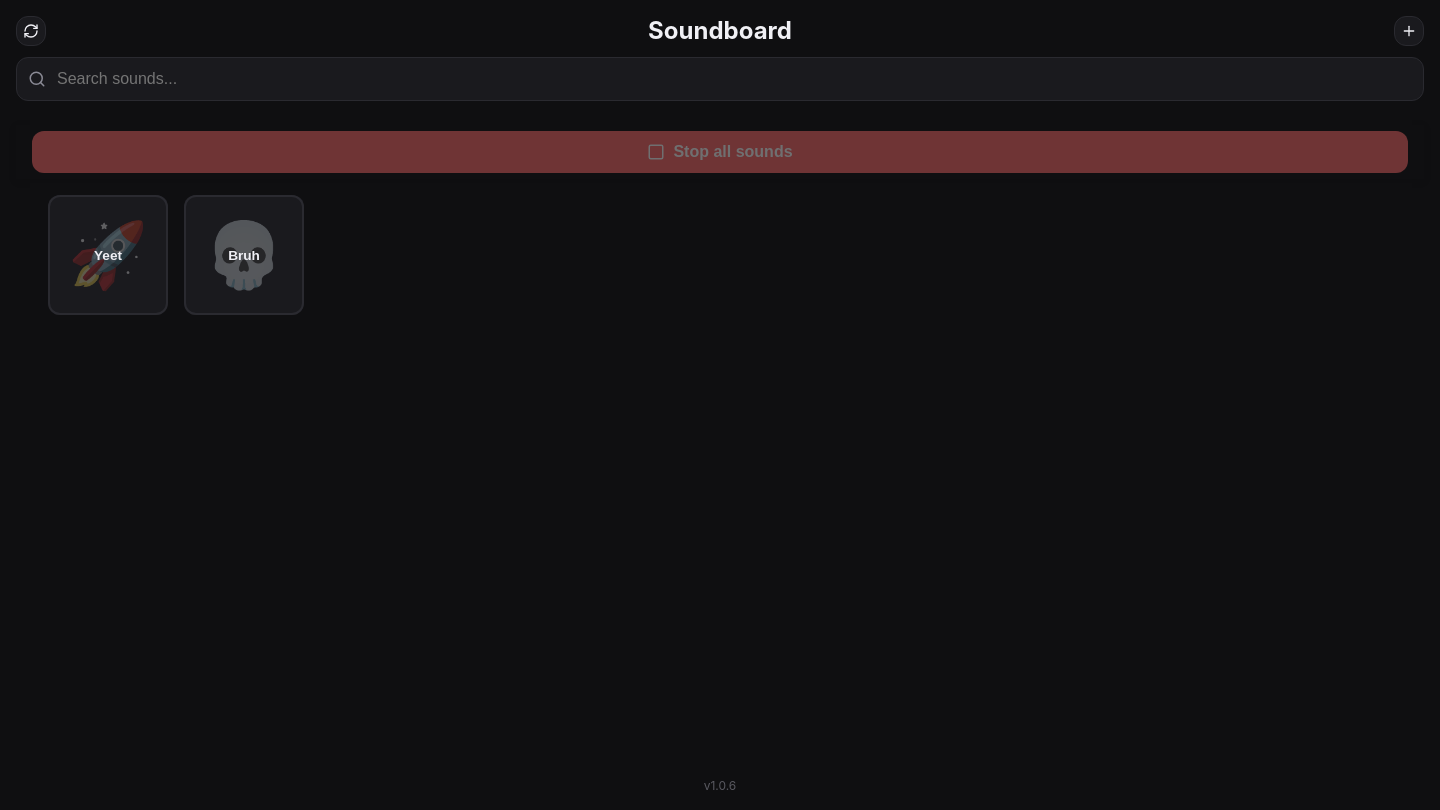
Scenario: App › filters samples by search query
Expected: the text "Yeet" is shown, x1=94 y1=248 x2=122 y2=262
Type "yeet" into the field with placeholder "Search sounds..." at (720, 79), box x1=16 y1=57 x2=1424 y2=101
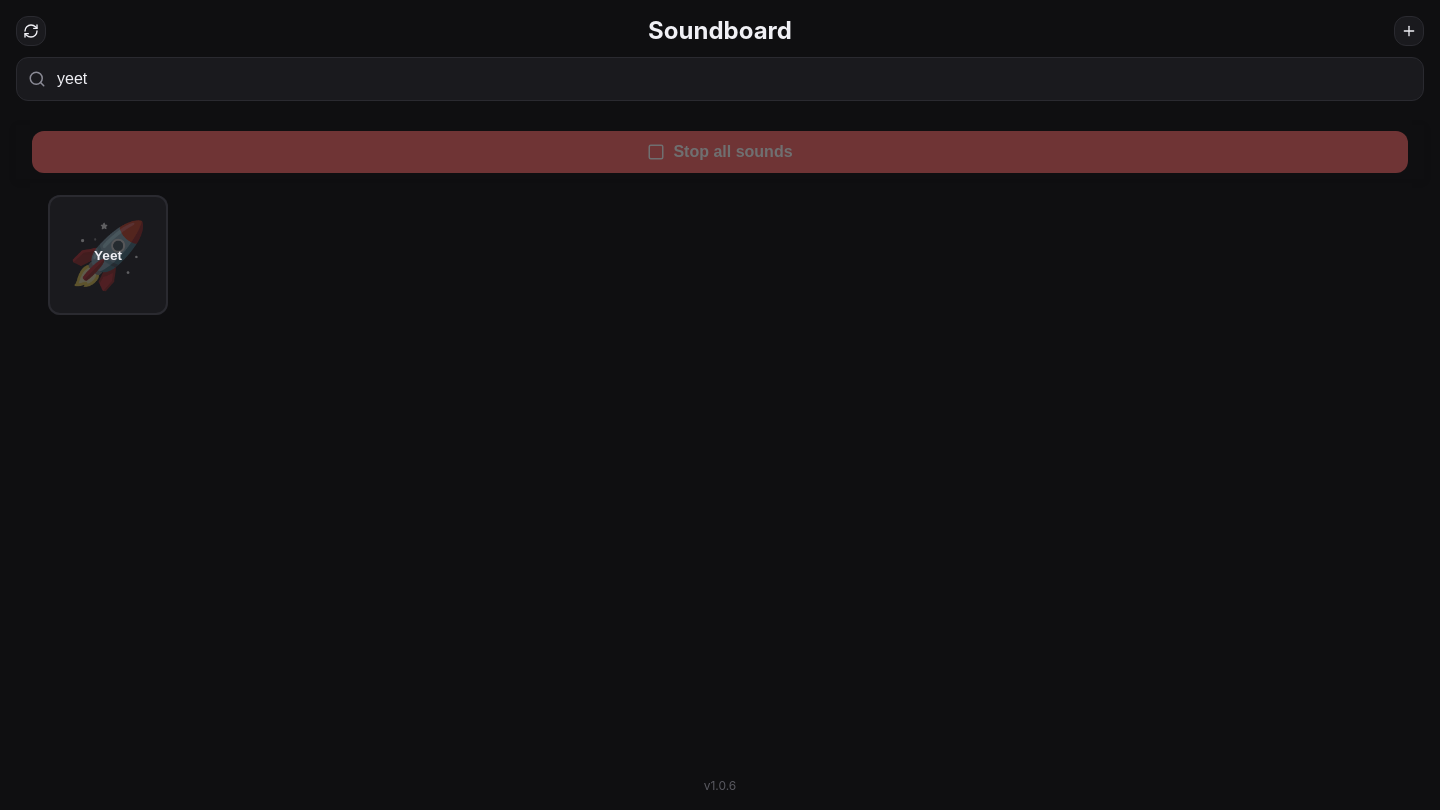
Expected: the text "Yeet" is shown, x1=94 y1=248 x2=122 y2=262
Expected: the button "Bruh" is gone
